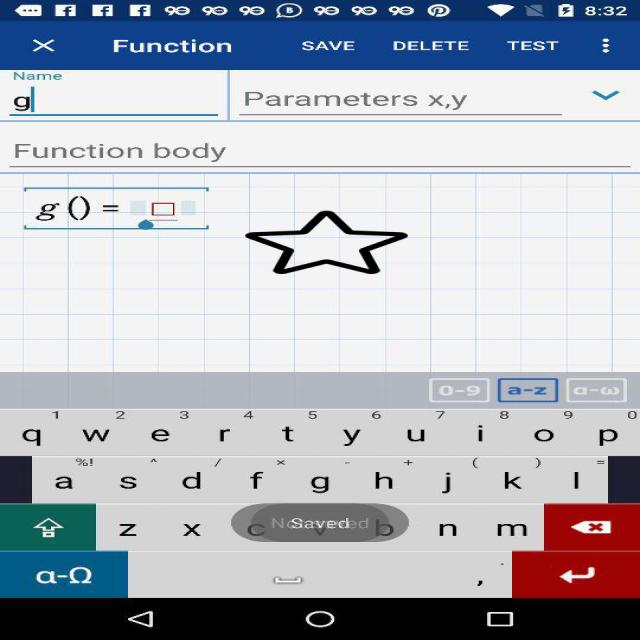forced continuity: (245, 210, 408, 276)
